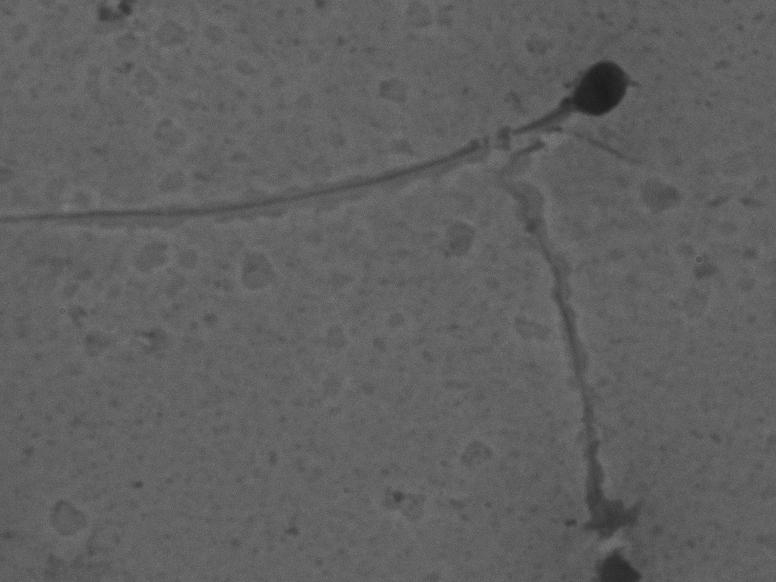Abnormal: (32, 20, 647, 253)
